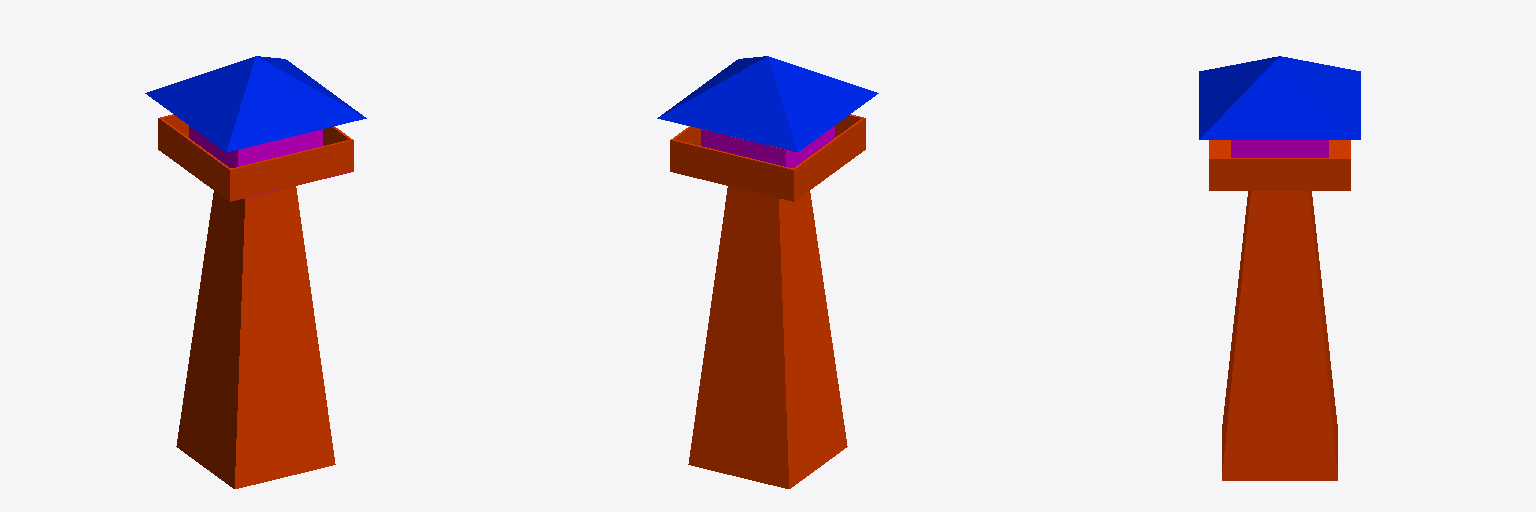
3 renders of one model, left to right at view 1: azimuth 30°, elevation 25°; view 2: azimuth 150°, elevation 25°; view 3: azimuth 270°, elevation 25°, orthographic.
Parts seen in each view (by area): view 1: Cube.001_Cube.002; view 2: Cube.001_Cube.002; view 3: Cube.001_Cube.002.
Part boxes in pixels (left/top/right/bottom): Cube.001_Cube.002: left=145, top=56, right=366, bottom=488; Cube.001_Cube.002: left=657, top=56, right=878, bottom=488; Cube.001_Cube.002: left=1199, top=56, right=1360, bottom=480.
Size of the model in its own units: 2.79 by 7.57 by 2.79.
Materials: 3 (1 with a texture image).